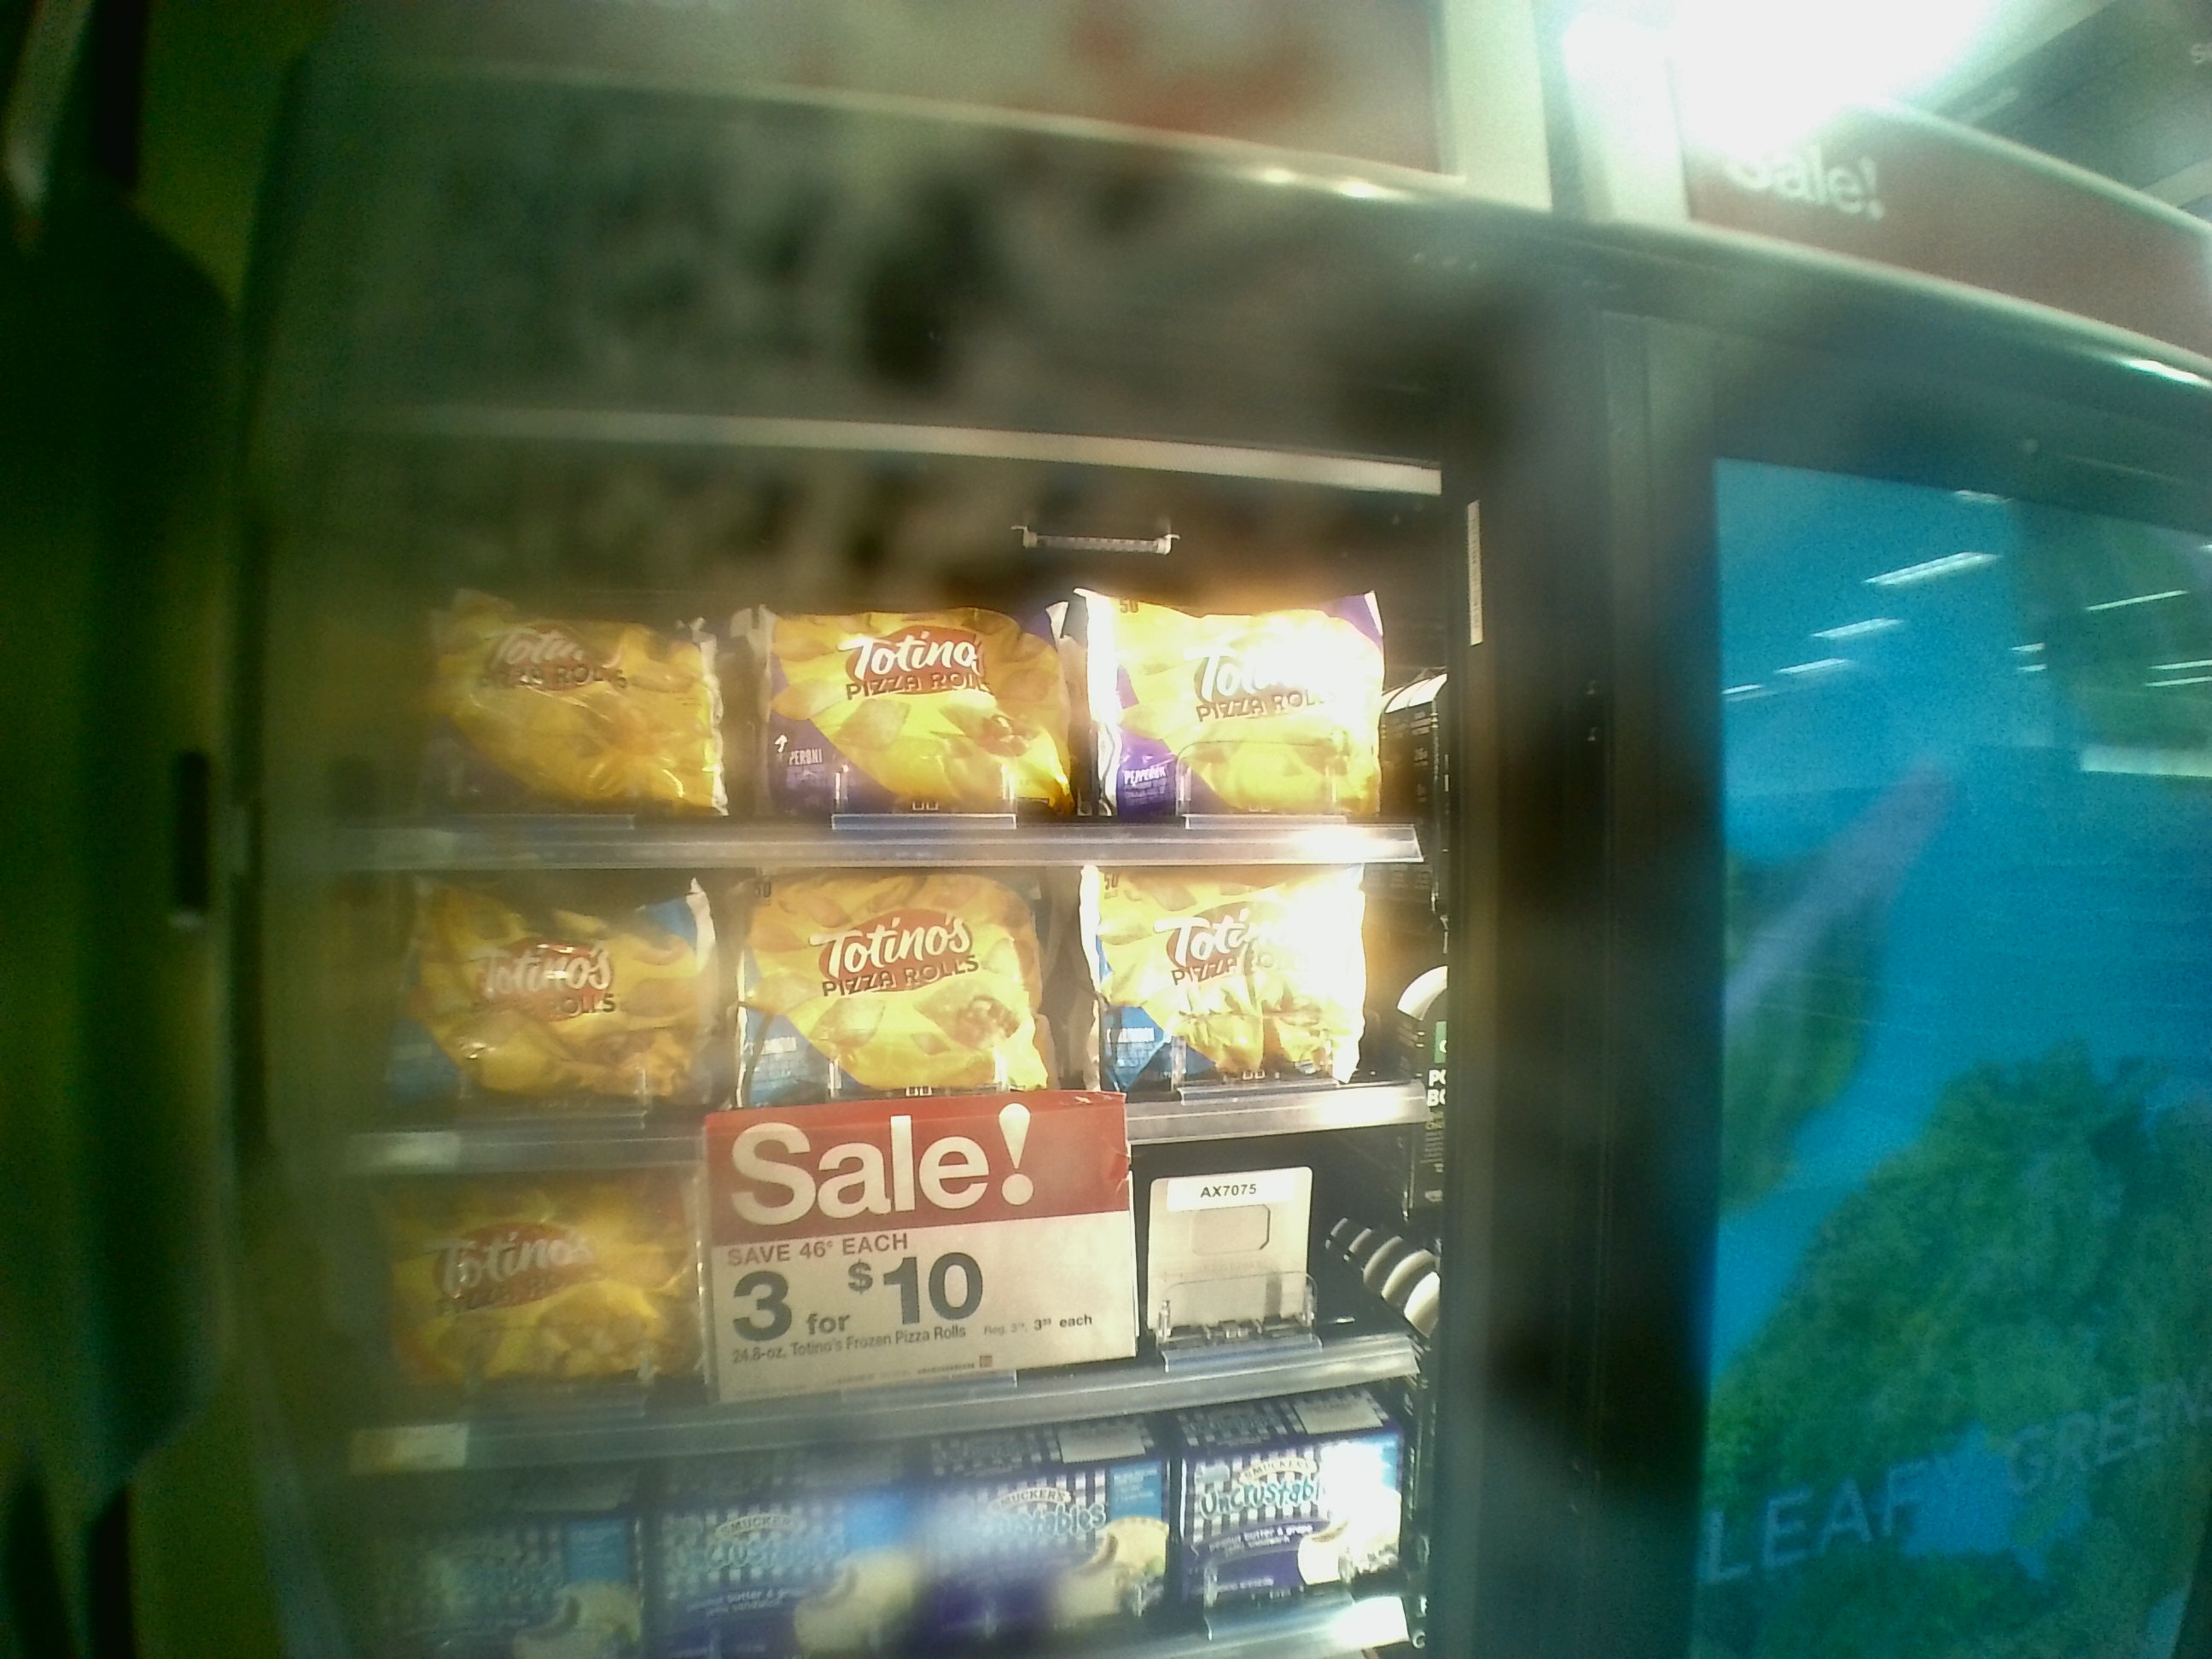shelf: (341, 1150, 1428, 1425), (345, 887, 1430, 1150)
